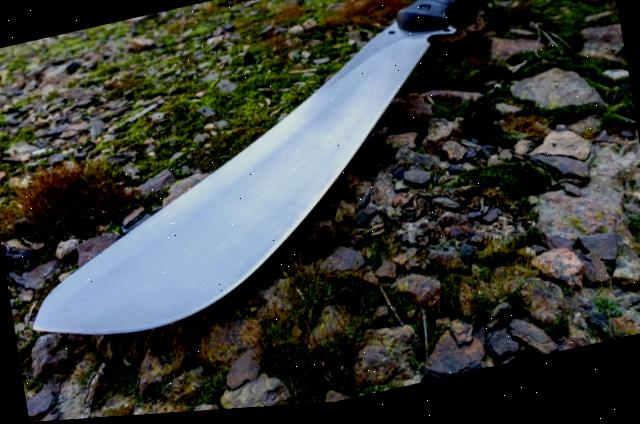long knife: (0, 0, 592, 371)
